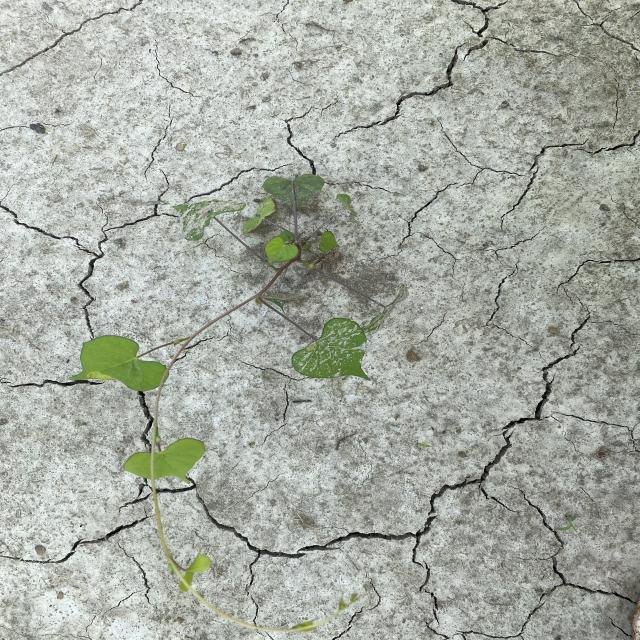MorningGlory: (64, 172, 412, 636)
